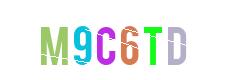6: (76, 0, 156, 80)
9: (43, 0, 123, 80)
C: (64, 0, 144, 80)
D: (118, 0, 198, 80)
M: (42, 0, 122, 80)
T: (112, 0, 192, 80)
